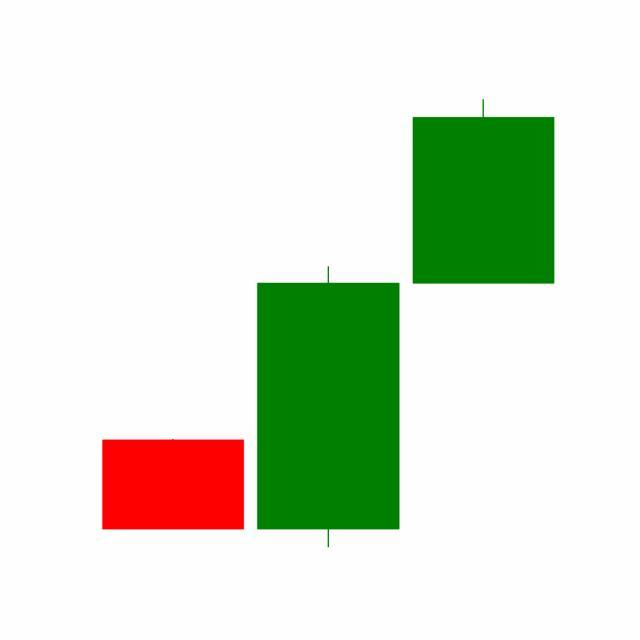Marubozu: (250, 264, 407, 552)
